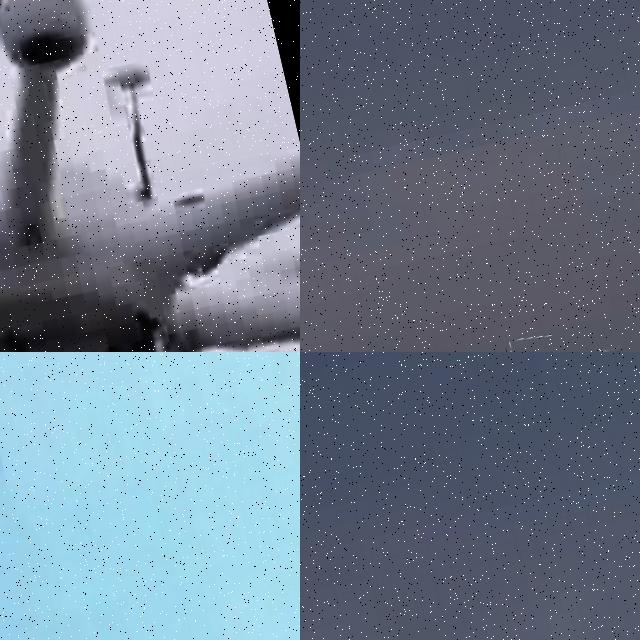drone: (0, 0, 300, 352), (0, 352, 74, 640), (505, 314, 640, 352)
